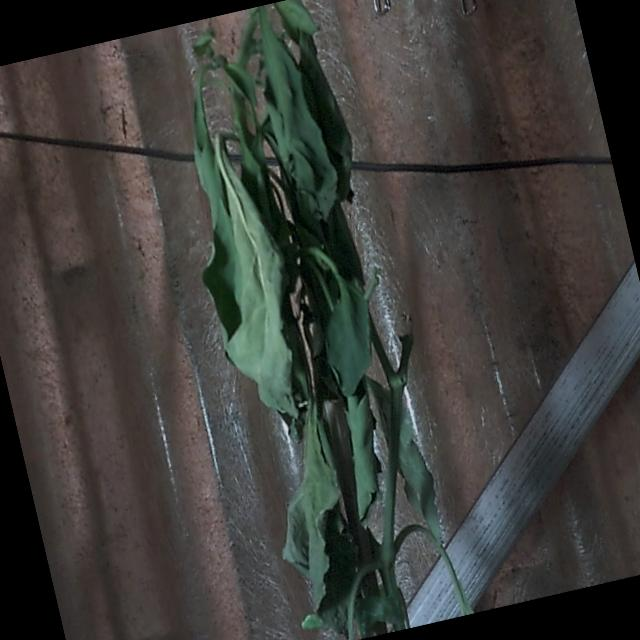Leaf: (180, 136, 318, 430), (256, 409, 372, 640), (251, 18, 348, 230), (310, 269, 386, 400)
